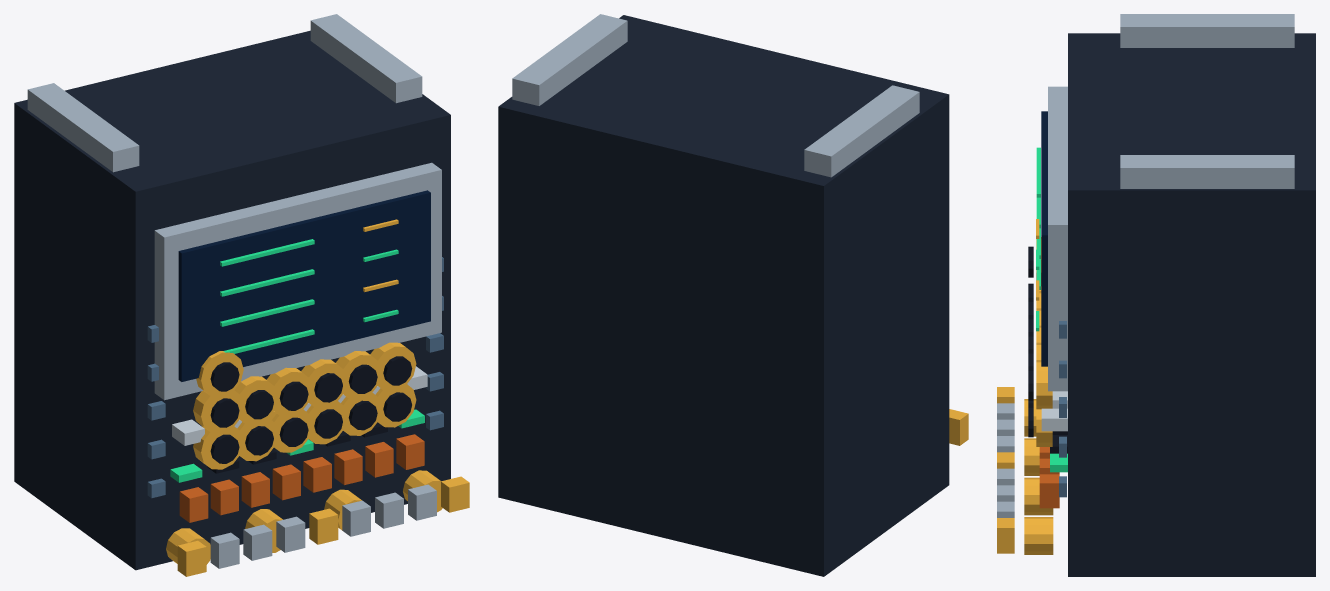
Rendered from 70_L85_DockingSafetyPLC.fbx.
The picture shows the model from 3 angles, left to right: view 1: azimuth 30°, elevation 25°; view 2: azimuth 150°, elevation 25°; view 3: azimuth 270°, elevation 25°; orthographic projection. The views are drawn at different scales.
Visible parts, largest first — view 1: L85_DockingSafetyPLC, L85_DockingSafetyPLC_Part_0032, L85_DockingSafetyPLC_Part_0022, L85_DockingSafetyPLC_Part_0034, L85_DockingSafetyPLC_Part_0010, L85_DockingSafetyPLC_Part_0024, L85_DockingSafetyPLC_Part_0030, L85_DockingSafetyPLC_Part_0026, L85_DockingSafetyPLC_Part_0028, L85_DockingSafetyPLC_Part_0012, L85_DockingSafetyPLC_Part_0020, L85_DockingSafetyPLC_Part_0014 (+15 smaller); view 2: L85_DockingSafetyPLC; view 3: L85_DockingSafetyPLC, L85_DockingSafetyPLC_Part_0032.
Boxes of the visible parts, bbox=[...] form: L85_DockingSafetyPLC: bbox=[14, 14, 469, 576]; L85_DockingSafetyPLC_Part_0032: bbox=[370, 342, 416, 391]; L85_DockingSafetyPLC_Part_0022: bbox=[193, 389, 242, 433]; L85_DockingSafetyPLC_Part_0034: bbox=[196, 351, 243, 397]; L85_DockingSafetyPLC_Part_0010: bbox=[193, 425, 242, 469]; L85_DockingSafetyPLC_Part_0024: bbox=[234, 376, 278, 424]; L85_DockingSafetyPLC_Part_0030: bbox=[336, 351, 377, 398]; L85_DockingSafetyPLC_Part_0026: bbox=[266, 367, 312, 416]; L85_DockingSafetyPLC_Part_0028: bbox=[301, 359, 342, 406]; L85_DockingSafetyPLC_Part_0012: bbox=[237, 417, 278, 461]; L85_DockingSafetyPLC_Part_0020: bbox=[375, 384, 416, 427]; L85_DockingSafetyPLC_Part_0014: bbox=[272, 408, 312, 452]; L85_DockingSafetyPLC: bbox=[498, 14, 968, 576]; L85_DockingSafetyPLC: bbox=[997, 14, 1315, 576]; L85_DockingSafetyPLC_Part_0032: bbox=[1036, 360, 1052, 409].
Bounding box in the file's own units: 95.88 × 116 × 82.21.
